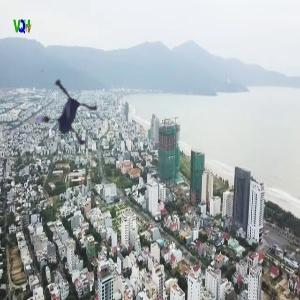drone: (11, 65, 110, 164)
